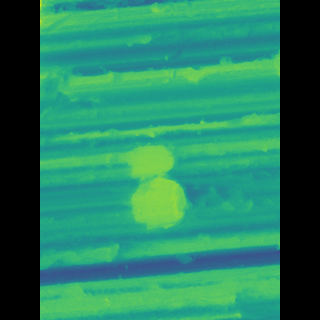Loch: (115, 127, 181, 230), (69, 238, 130, 265)
